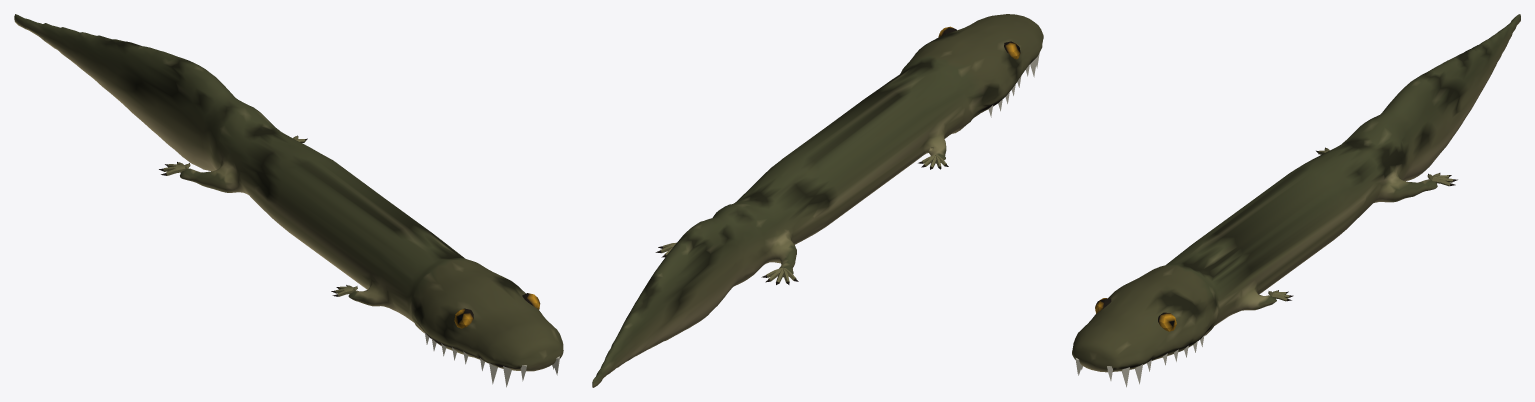
Rendered from Anthracosaurus.fbx.
The picture shows the model from 3 angles, left to right: view 1: azimuth 30°, elevation 25°; view 2: azimuth 150°, elevation 25°; view 3: azimuth 330°, elevation 25°; orthographic projection. The views are drawn at different scales.
Visible parts, largest first — view 1: Anthracosaurus; view 2: Anthracosaurus; view 3: Anthracosaurus.
Boxes of the visible parts, bbox=[...] form: Anthracosaurus: bbox=[14, 14, 563, 387]; Anthracosaurus: bbox=[592, 14, 1043, 387]; Anthracosaurus: bbox=[1072, 14, 1520, 387].
Bounding box in the file's own units: 0.2408 × 0.1495 × 1.38.
